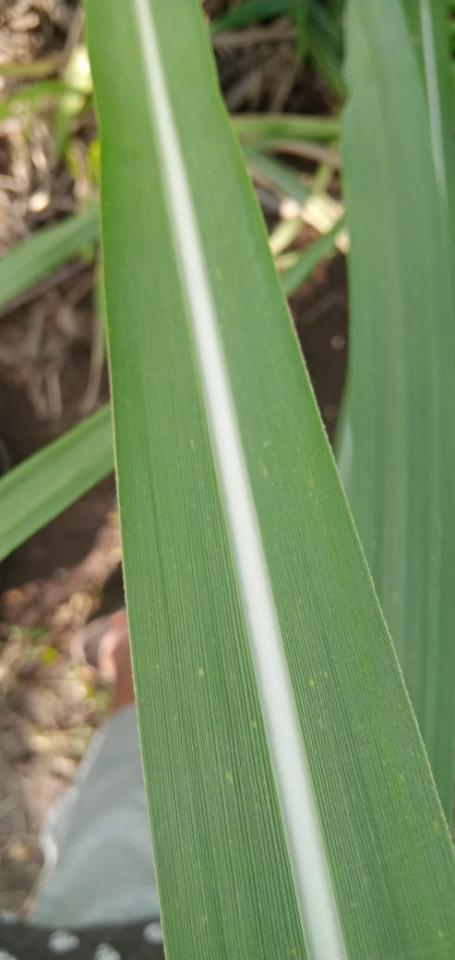Healthy: (151, 0, 454, 959), (86, 0, 308, 959), (334, 0, 454, 842)
